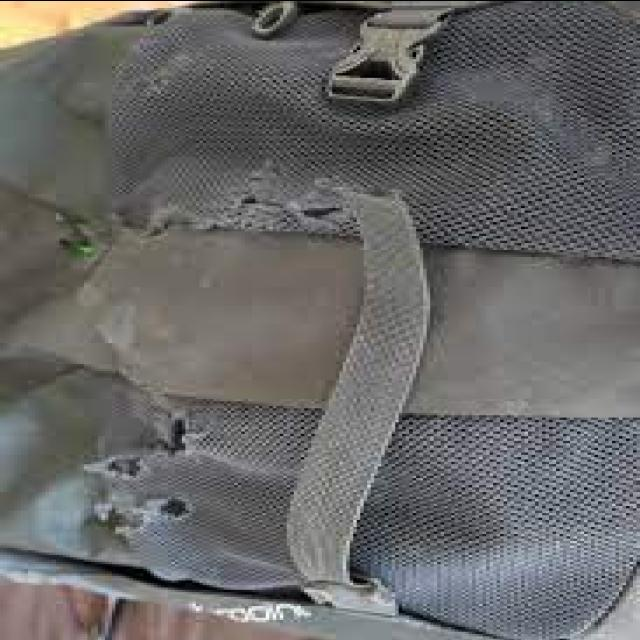Damage-bag: (83, 393, 247, 550), (120, 160, 358, 234)
